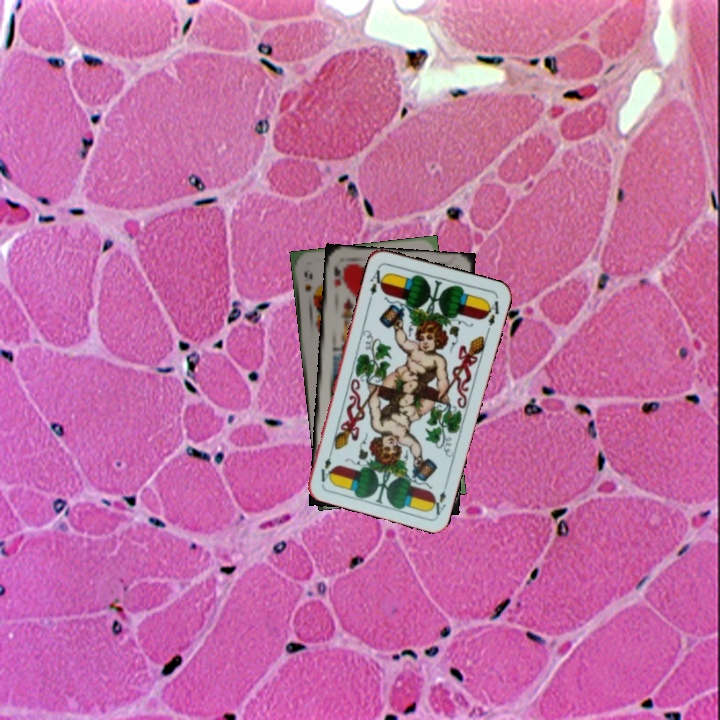EA: (427, 478, 451, 518), (365, 263, 388, 303)
HK: (330, 262, 343, 292)
S9: (300, 267, 315, 294)
